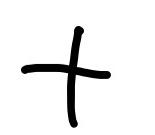plus: (19, 25, 110, 127)
